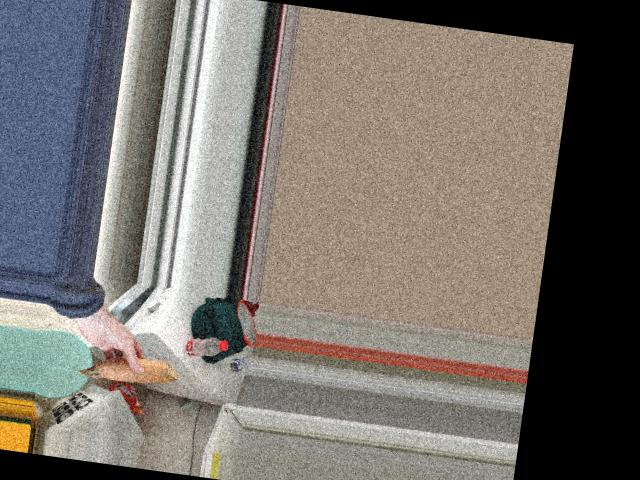sweet_potato: (80, 344, 170, 387)
